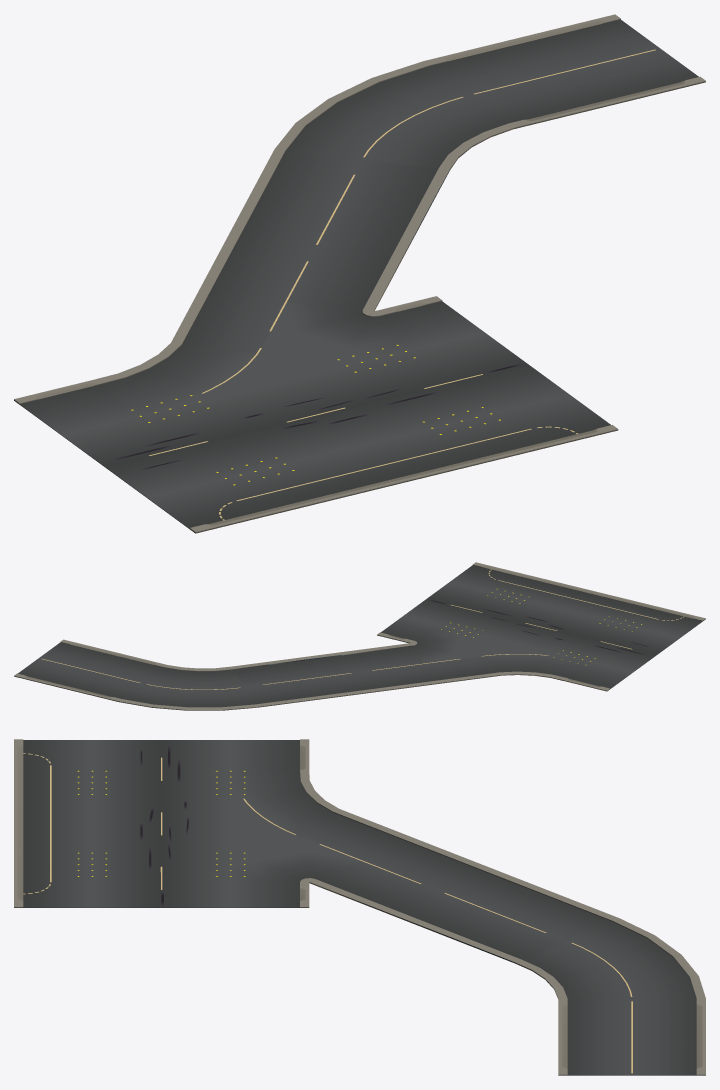
Rendered from Runway_1H.fbx.
3 renders of one model, top to bottom at view 1: azimuth 30°, elevation 25°; view 2: azimuth 150°, elevation 25°; view 3: azimuth 270°, elevation 25°, orthographic. The views are drawn at different scales.
Visible parts, largest first — view 1: Runway_1H; view 2: Runway_1H; view 3: Runway_1H.
Boxes of the visible parts, bbox=[...] form: Runway_1H: bbox=[14, 14, 705, 533]; Runway_1H: bbox=[14, 562, 705, 710]; Runway_1H: bbox=[14, 739, 705, 1075].
Size of the model in its own units: 17200 by 30 by 15000.
